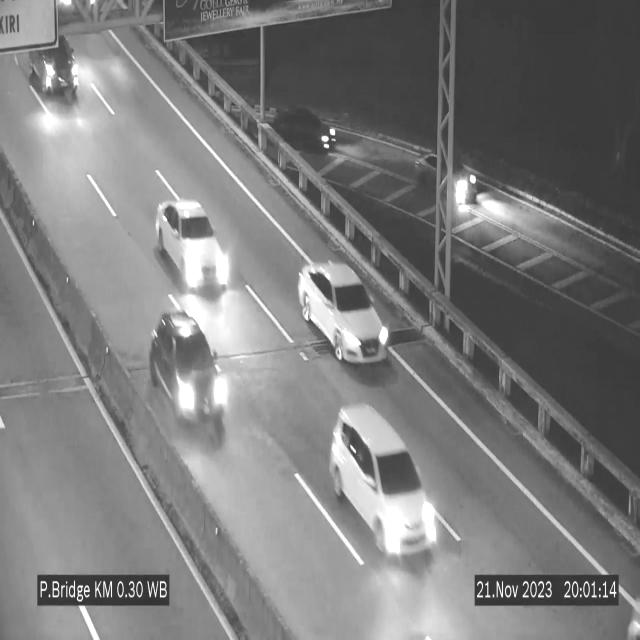Car: (329, 404, 437, 556), (150, 310, 229, 438), (297, 262, 389, 362), (155, 200, 229, 291), (267, 93, 343, 161), (410, 146, 491, 202), (29, 35, 78, 99)
